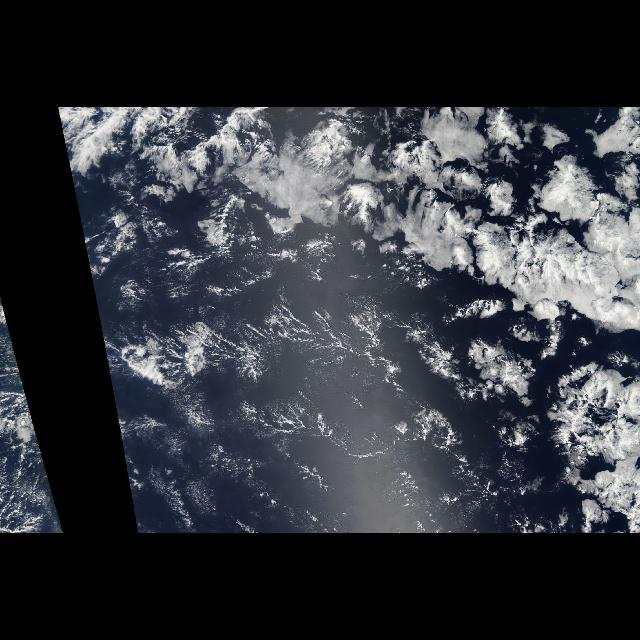Flower: (57, 107, 639, 533), (54, 494, 66, 532)
Gravel: (120, 309, 252, 401)
Sugar: (254, 288, 453, 516)
